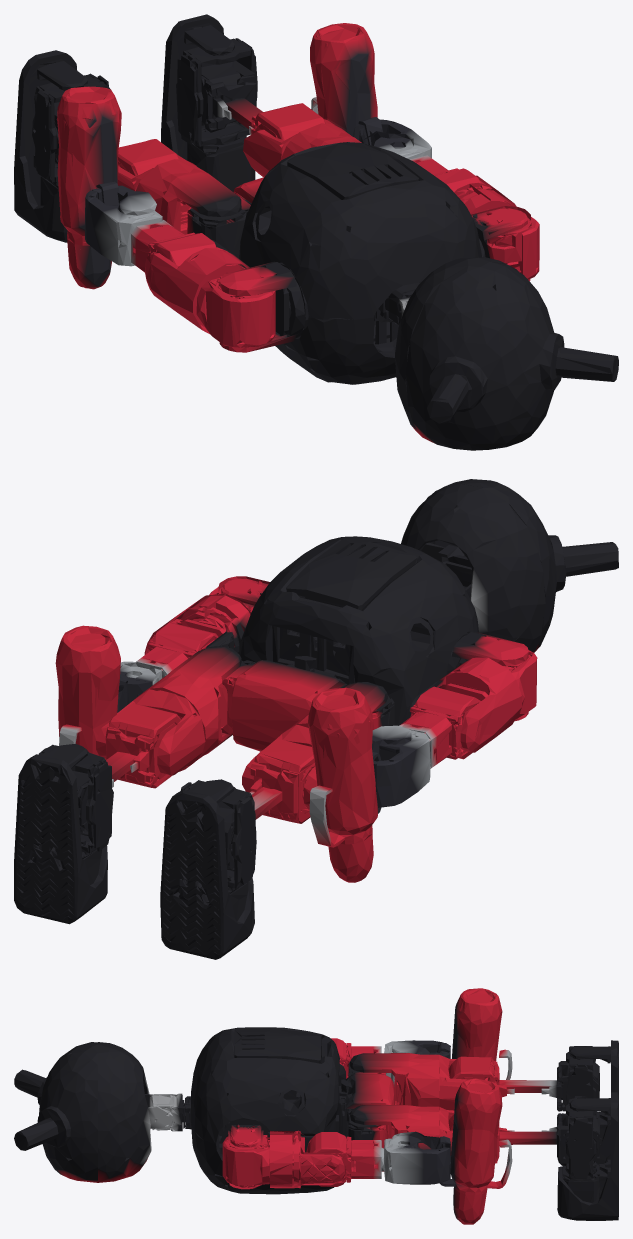
Rendered from milk-bottle.glb.
The picture shows the model from 3 angles, top to bottom: view 1: azimuth 30°, elevation 25°; view 2: azimuth 150°, elevation 25°; view 3: azimuth 270°, elevation 25°; orthographic projection. The views are drawn at different scales.
Parts seen in each view (by area): view 1: geometry_0; view 2: geometry_0; view 3: geometry_0.
Boxes of the visible parts, bbox=[...] form: geometry_0: bbox=[14, 14, 618, 450]; geometry_0: bbox=[14, 479, 618, 959]; geometry_0: bbox=[14, 988, 618, 1224].
Size of the model in its own units: 0.9225 by 0.5441 by 2.
